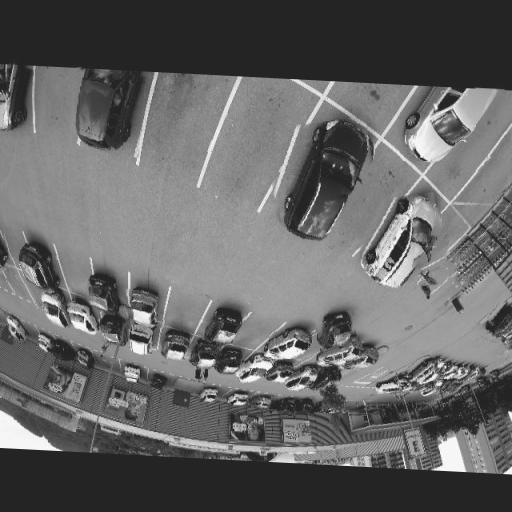busy: (267, 115, 381, 249), (356, 191, 447, 294), (400, 84, 506, 166), (70, 68, 144, 156), (0, 63, 30, 142), (16, 242, 58, 290), (201, 307, 247, 346), (268, 326, 316, 362), (315, 309, 357, 350), (126, 287, 164, 330), (86, 272, 124, 314), (320, 340, 364, 369), (66, 299, 100, 336), (37, 291, 70, 329), (406, 356, 447, 384), (238, 353, 274, 383), (161, 330, 193, 362), (486, 301, 512, 337), (285, 366, 320, 392), (346, 346, 379, 373), (192, 341, 222, 370), (126, 328, 157, 356), (100, 314, 128, 345), (2, 315, 30, 343), (216, 348, 245, 375), (266, 362, 294, 385), (310, 369, 340, 390), (50, 341, 75, 362), (270, 396, 296, 416), (376, 378, 404, 396), (444, 363, 471, 381), (0, 233, 14, 267), (122, 363, 144, 384), (250, 393, 274, 412), (226, 391, 252, 408), (198, 385, 220, 402), (75, 348, 93, 368), (294, 398, 316, 414), (36, 333, 54, 352), (150, 373, 168, 391)
free: (152, 89, 214, 151), (223, 113, 286, 171), (338, 188, 384, 235), (33, 69, 76, 116), (414, 233, 448, 274), (454, 127, 485, 171), (482, 157, 512, 193), (65, 261, 90, 291), (172, 299, 201, 323), (7, 273, 30, 292), (20, 322, 41, 342), (93, 353, 118, 368), (244, 323, 266, 340)
